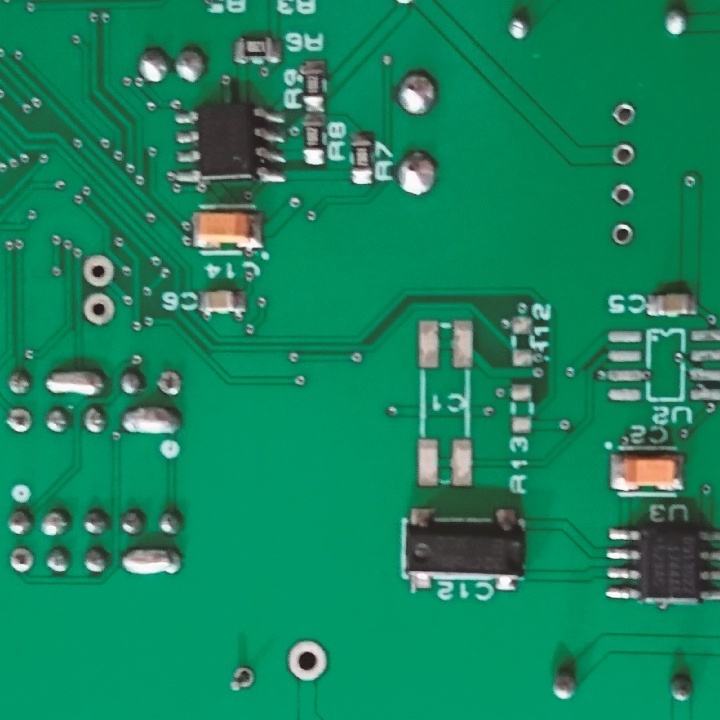F: (284, 638, 329, 682), (81, 292, 117, 326), (79, 255, 117, 287), (155, 368, 187, 400), (228, 663, 259, 695), (4, 406, 34, 436), (7, 543, 34, 575), (611, 139, 636, 171), (609, 180, 636, 208), (610, 100, 636, 127), (611, 218, 633, 246)
P: (119, 403, 181, 440), (124, 546, 187, 579), (44, 368, 107, 397)
